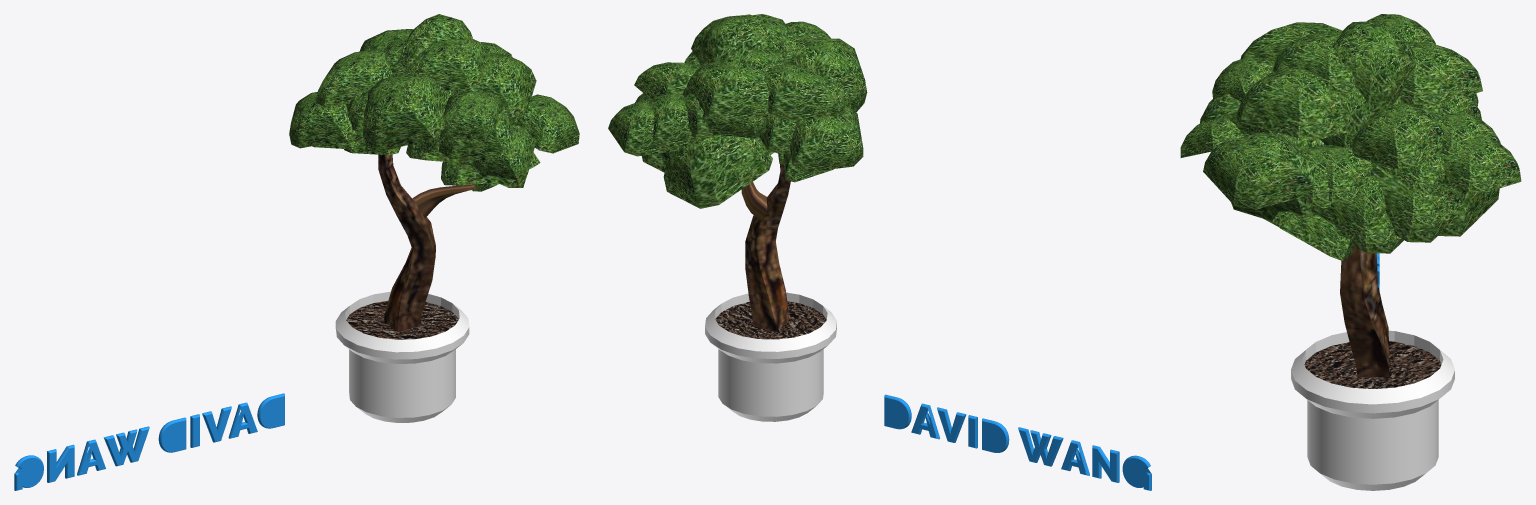
The model's file is wk8a_plant_wang_david.obj.
3 renders of one model, left to right at view 1: azimuth 30°, elevation 25°; view 2: azimuth 150°, elevation 25°; view 3: azimuth 270°, elevation 25°, orthographic. The views are drawn at different scales.
Parts seen in each view (by area): view 1: wk1a_signature_wang_david:typeMesh1, pCylinder2, pCylinder1, pCube1, pSphere45, pSphere29, pSphere28, pSphere24, pSphere1, pSphere23, pSphere27, pSphere25 (+5 smaller); view 2: wk1a_signature_wang_david:typeMesh1, pCylinder2, pCylinder1, pSphere42, pCube1, pSphere37, pSphere1, pSphere28, pSphere6, pSphere45, pSphere14, pSphere32 (+6 smaller); view 3: pCylinder2, pCylinder1, pSphere23, pSphere24, pCube1, pSphere6, pSphere16, pSphere37, pSphere14, pSphere29, pSphere33, pSphere7 (+17 smaller).
Boxes of the visible parts, box(x1,y1,x2,y2) form: wk1a_signature_wang_david:typeMesh1: box(14, 393, 284, 490); pCylinder2: box(335, 291, 469, 363); pCylinder1: box(349, 349, 455, 422); pCube1: box(378, 154, 475, 331); pSphere45: box(363, 72, 447, 152); pSphere29: box(407, 38, 491, 90); pSphere28: box(316, 49, 393, 106); pSphere24: box(451, 53, 536, 118); pSphere1: box(289, 92, 358, 148); pSphere23: box(514, 94, 579, 153); pSphere27: box(441, 90, 503, 139); pSphere25: box(438, 110, 514, 160); wk1a_signature_wang_david:typeMesh1: box(884, 394, 1151, 490); pCylinder2: box(705, 292, 836, 363); pCylinder1: box(718, 349, 823, 421); pSphere42: box(663, 135, 772, 208); pCube1: box(741, 164, 790, 331); pSphere37: box(686, 61, 774, 122); pSphere1: box(789, 105, 863, 172); pSphere28: box(763, 64, 845, 119); pSphere6: box(699, 15, 788, 67); pSphere45: box(791, 38, 867, 112); pSphere14: box(608, 101, 682, 156); pSphere32: box(648, 93, 705, 147); pCylinder2: box(1291, 330, 1454, 418); pCylinder1: box(1307, 400, 1438, 490); pSphere23: box(1203, 132, 1315, 209); pSphere24: box(1236, 67, 1346, 138); pCube1: box(1340, 246, 1389, 376); pSphere6: box(1332, 21, 1415, 112); pSphere16: box(1352, 103, 1443, 168); pSphere37: box(1400, 42, 1482, 105); pSphere14: box(1442, 136, 1521, 192); pSphere29: box(1273, 31, 1354, 93); pSphere33: box(1311, 176, 1385, 239); pSphere7: box(1321, 144, 1370, 201).
Size of the model in its own units: 22.04 by 15.55 by 10.39.
Materials: 6 (3 with a texture image).
